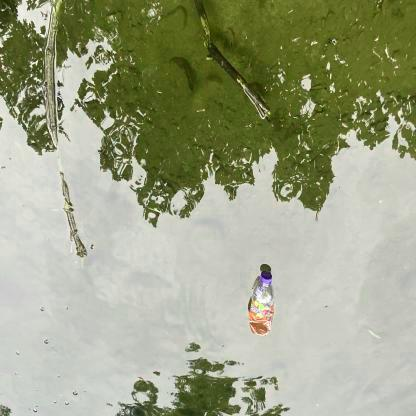Plastic: (243, 266, 278, 343)
